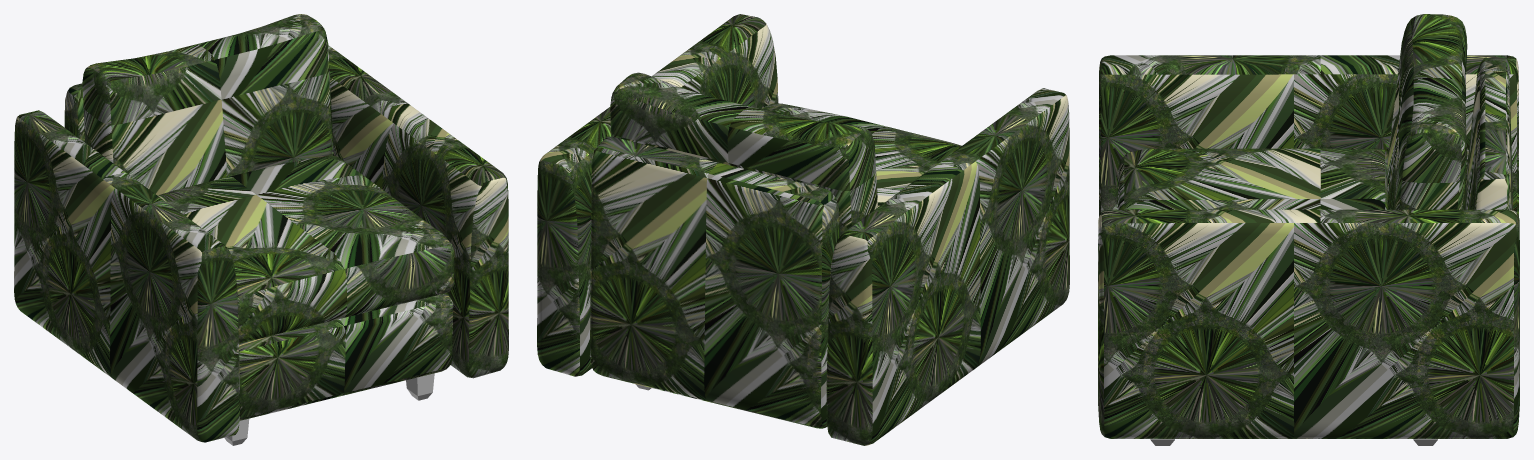
The model's file is Armchair.fbx.
3 renders of one model, left to right at view 1: azimuth 30°, elevation 25°; view 2: azimuth 150°, elevation 25°; view 3: azimuth 270°, elevation 25°, orthographic. The views are drawn at different scales.
Parts seen in each view (by area): view 1: Armchair_LOD_0; view 2: Armchair_LOD_0; view 3: Armchair_LOD_0.
Boxes of the visible parts, x1,y1,x2,y2 form: Armchair_LOD_0: [14, 14, 508, 445]; Armchair_LOD_0: [537, 14, 1069, 445]; Armchair_LOD_0: [1098, 14, 1519, 445].
Size of what is drawn, in the model's own units: 99.44 by 86.49 by 103.
